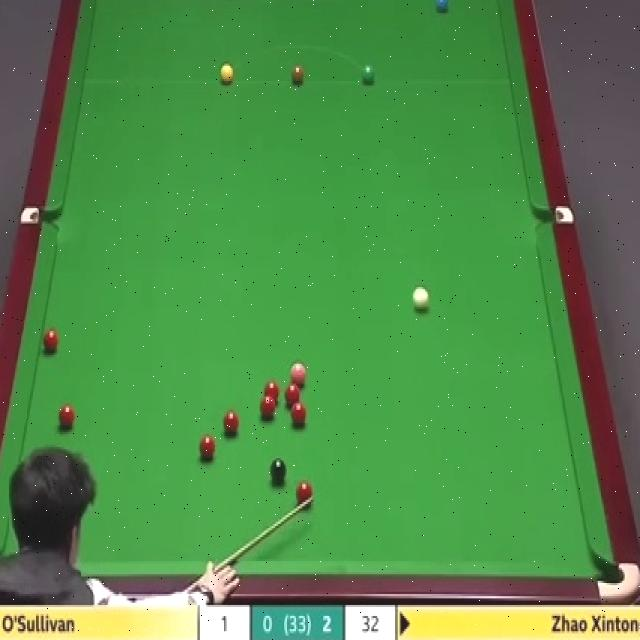black-ball: (269, 457, 287, 489)
blue-ball: (432, 0, 450, 15)
brown-ball: (291, 64, 305, 87)
green-ball: (361, 64, 376, 87)
pink-ball: (287, 360, 307, 387)
red-ball: (56, 400, 76, 433), (198, 435, 217, 465), (296, 482, 316, 508), (223, 409, 240, 435), (259, 395, 276, 421), (41, 328, 58, 354), (262, 380, 280, 403), (291, 401, 307, 426), (284, 384, 301, 405)
white-ball: (410, 284, 430, 316)
yellow-ball: (220, 63, 234, 86)
